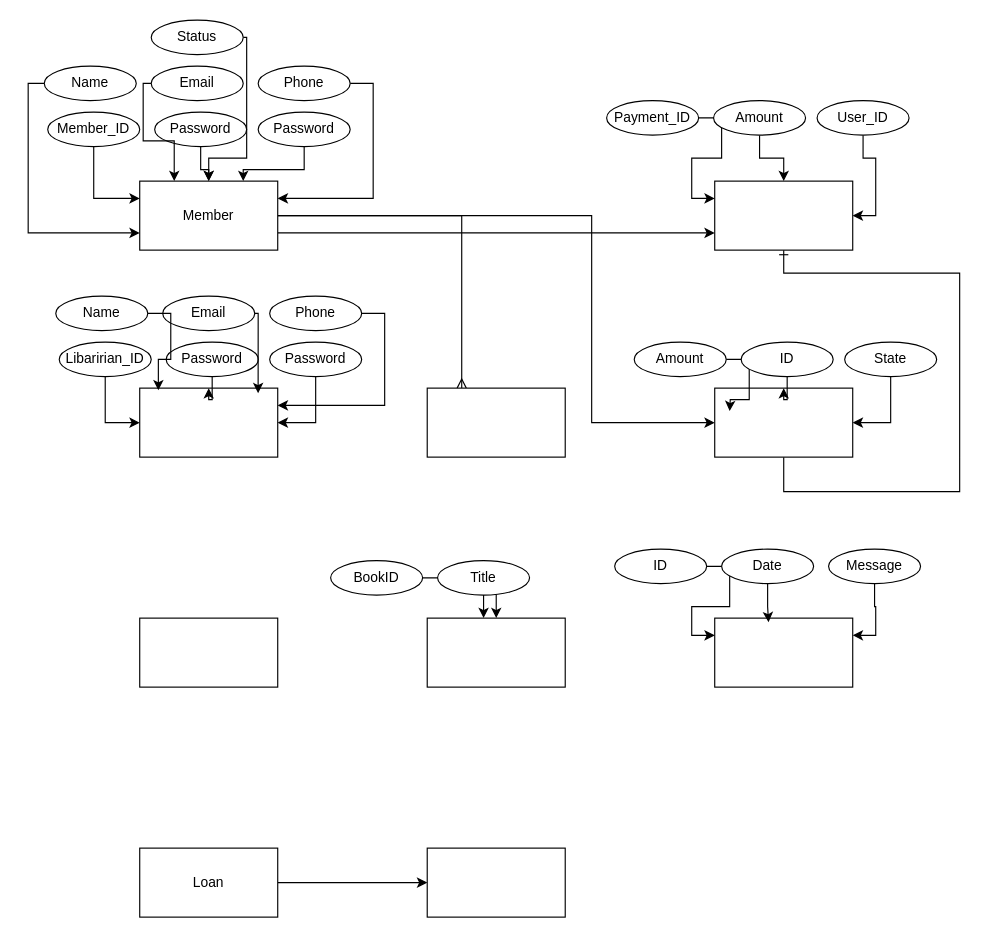
Some shapes in this 989 by 937 pixel diagram are drawn without their labels. The shapes that lost their labels are listed below. From the top down, each one's centre as x and y in pixels, then its label:
pixel 783 215: Payment
pixel 208 422: Libarian
pixel 495 422: Borrow
pixel 783 422: OverDue Payment
pixel 208 652: Administrator
pixel 495 652: Book
pixel 783 652: Notification
pixel 495 882: Fine
